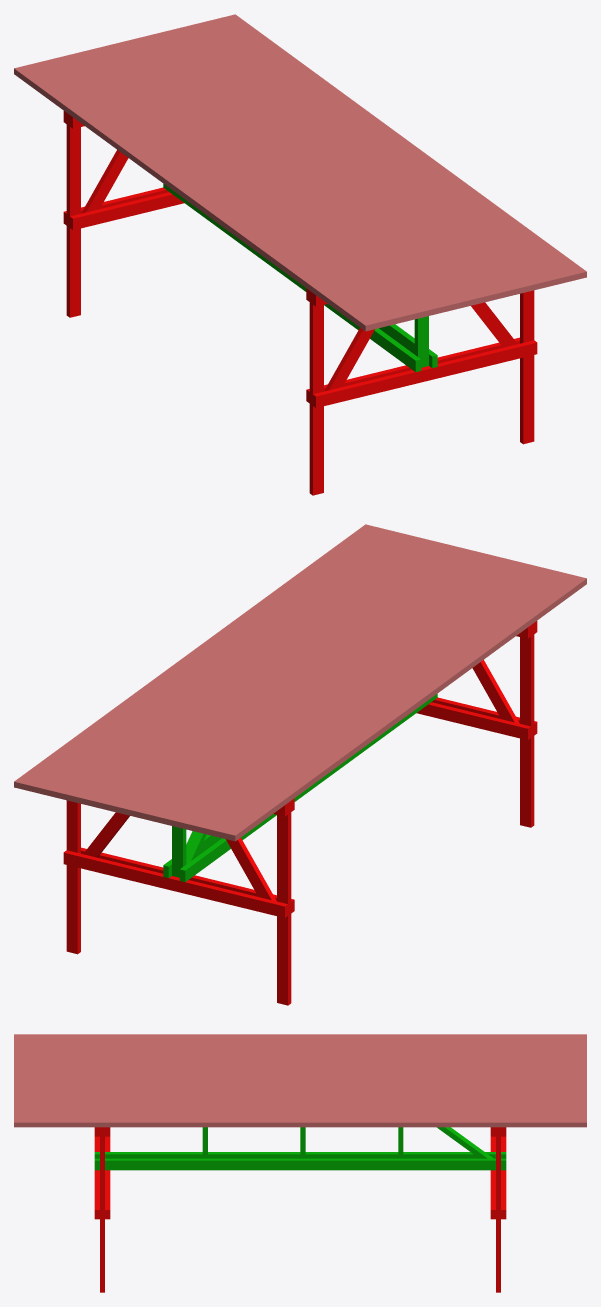
The model's file is result.glb.
3 renders of one model, top to bottom at view 1: azimuth 30°, elevation 25°; view 2: azimuth 150°, elevation 25°; view 3: azimuth 270°, elevation 25°, orthographic. The views are drawn at different scales.
Visible parts, largest first — view 1: 64f22c9e-230f-4653-b976-dc03d0b484be__Box, ea1c4ae5-beb3-41ae-987a-7c0fab6f6b05__undefined, 31be341b-87a5-42c5-a50d-fa151f51da91__undefined, adbaf9f6-40d3-4935-ad67-b6c492862d07__undefined, 5665fa30-01fe-4a64-a683-1c1c8f762a25__undefined, 213c40da-0a16-4e37-9d8a-27ee3b82f204__undefined, d0050907-aa46-4bbf-a3e6-b3615f73c8e7__undefined, 202fec7f-caa1-4f7d-8245-209d3214bfa8__undefined, 13b9606e-ce3d-4427-859f-9f2b3266fd82__undefined, 2b467acf-73f8-477e-a683-50d3e1ea110c__undefined, 138d6ef2-4af4-4c3b-8437-ec8527585c76__undefined, 23d83b52-b499-4065-b5de-852fb19ecc4e__undefined (+20 smaller); view 2: 64f22c9e-230f-4653-b976-dc03d0b484be__Box, ea1c4ae5-beb3-41ae-987a-7c0fab6f6b05__undefined, 31be341b-87a5-42c5-a50d-fa151f51da91__undefined, adbaf9f6-40d3-4935-ad67-b6c492862d07__undefined, 5665fa30-01fe-4a64-a683-1c1c8f762a25__undefined, 213c40da-0a16-4e37-9d8a-27ee3b82f204__undefined, d0050907-aa46-4bbf-a3e6-b3615f73c8e7__undefined, 202fec7f-caa1-4f7d-8245-209d3214bfa8__undefined, 13b9606e-ce3d-4427-859f-9f2b3266fd82__undefined, 2b467acf-73f8-477e-a683-50d3e1ea110c__undefined, 138d6ef2-4af4-4c3b-8437-ec8527585c76__undefined, 23d83b52-b499-4065-b5de-852fb19ecc4e__undefined (+19 smaller); view 3: 98041a16-ebc3-4da5-810c-df62855fb91e__undefined, 6b8b2e3c-db21-4722-a979-cad63420ac47__strutH, 64f22c9e-230f-4653-b976-dc03d0b484be__Box, 31be341b-87a5-42c5-a50d-fa151f51da91__undefined, adbaf9f6-40d3-4935-ad67-b6c492862d07__undefined, ea1c4ae5-beb3-41ae-987a-7c0fab6f6b05__undefined, 0b79fe3d-f7b9-4f35-bc54-f62354e612ec__undefined, 4379755e-f2c1-452e-8bd4-3ba3ccd41414__undefined, 5df7ddda-df55-4f01-aa34-be9da73f8c57__undefined, eb33f94d-b837-4762-aae5-ebcf6071ff7a__undefined, 213c40da-0a16-4e37-9d8a-27ee3b82f204__undefined, fcb46faa-c1df-4d3b-b4e6-67b487c97e59__undefined (+17 smaller).
Boxes of the visible parts, x1,y1,x2,y2 form: 64f22c9e-230f-4653-b976-dc03d0b484be__Box: [14, 65, 376, 331]; ea1c4ae5-beb3-41ae-987a-7c0fab6f6b05__undefined: [47, 57, 409, 323]; 31be341b-87a5-42c5-a50d-fa151f51da91__undefined: [25, 63, 387, 328]; adbaf9f6-40d3-4935-ad67-b6c492862d07__undefined: [36, 60, 398, 325]; 5665fa30-01fe-4a64-a683-1c1c8f762a25__undefined: [136, 36, 498, 301]; 213c40da-0a16-4e37-9d8a-27ee3b82f204__undefined: [103, 44, 465, 309]; d0050907-aa46-4bbf-a3e6-b3615f73c8e7__undefined: [125, 38, 487, 304]; 202fec7f-caa1-4f7d-8245-209d3214bfa8__undefined: [169, 28, 531, 293]; 13b9606e-ce3d-4427-859f-9f2b3266fd82__undefined: [180, 25, 542, 290]; 2b467acf-73f8-477e-a683-50d3e1ea110c__undefined: [202, 20, 564, 285]; 138d6ef2-4af4-4c3b-8437-ec8527585c76__undefined: [147, 33, 509, 298]; 23d83b52-b499-4065-b5de-852fb19ecc4e__undefined: [191, 22, 553, 287]; 64f22c9e-230f-4653-b976-dc03d0b484be__Box: [224, 575, 586, 841]; ea1c4ae5-beb3-41ae-987a-7c0fab6f6b05__undefined: [191, 567, 553, 833]; 31be341b-87a5-42c5-a50d-fa151f51da91__undefined: [213, 573, 575, 838]; adbaf9f6-40d3-4935-ad67-b6c492862d07__undefined: [202, 570, 564, 835]; 5665fa30-01fe-4a64-a683-1c1c8f762a25__undefined: [102, 546, 464, 811]; 213c40da-0a16-4e37-9d8a-27ee3b82f204__undefined: [135, 554, 497, 819]; d0050907-aa46-4bbf-a3e6-b3615f73c8e7__undefined: [113, 548, 475, 814]; 202fec7f-caa1-4f7d-8245-209d3214bfa8__undefined: [69, 538, 431, 803]; 13b9606e-ce3d-4427-859f-9f2b3266fd82__undefined: [58, 535, 420, 800]; 2b467acf-73f8-477e-a683-50d3e1ea110c__undefined: [36, 530, 398, 795]; 138d6ef2-4af4-4c3b-8437-ec8527585c76__undefined: [91, 543, 453, 808]; 23d83b52-b499-4065-b5de-852fb19ecc4e__undefined: [47, 532, 409, 797]; 98041a16-ebc3-4da5-810c-df62855fb91e__undefined: [14, 1118, 586, 1127]; 6b8b2e3c-db21-4722-a979-cad63420ac47__strutH: [94, 1158, 506, 1170]; 64f22c9e-230f-4653-b976-dc03d0b484be__Box: [14, 1034, 586, 1038]; 31be341b-87a5-42c5-a50d-fa151f51da91__undefined: [14, 1039, 586, 1043]; adbaf9f6-40d3-4935-ad67-b6c492862d07__undefined: [14, 1043, 586, 1047]; ea1c4ae5-beb3-41ae-987a-7c0fab6f6b05__undefined: [14, 1047, 586, 1051]; 0b79fe3d-f7b9-4f35-bc54-f62354e612ec__undefined: [14, 1052, 586, 1056]; 4379755e-f2c1-452e-8bd4-3ba3ccd41414__undefined: [14, 1056, 586, 1060]; 5df7ddda-df55-4f01-aa34-be9da73f8c57__undefined: [14, 1061, 586, 1065]; eb33f94d-b837-4762-aae5-ebcf6071ff7a__undefined: [14, 1065, 586, 1069]; 213c40da-0a16-4e37-9d8a-27ee3b82f204__undefined: [14, 1069, 586, 1073]; fcb46faa-c1df-4d3b-b4e6-67b487c97e59__undefined: [14, 1074, 586, 1078].
Bounding box in the file's own units: 800 × 720 × 2200.
